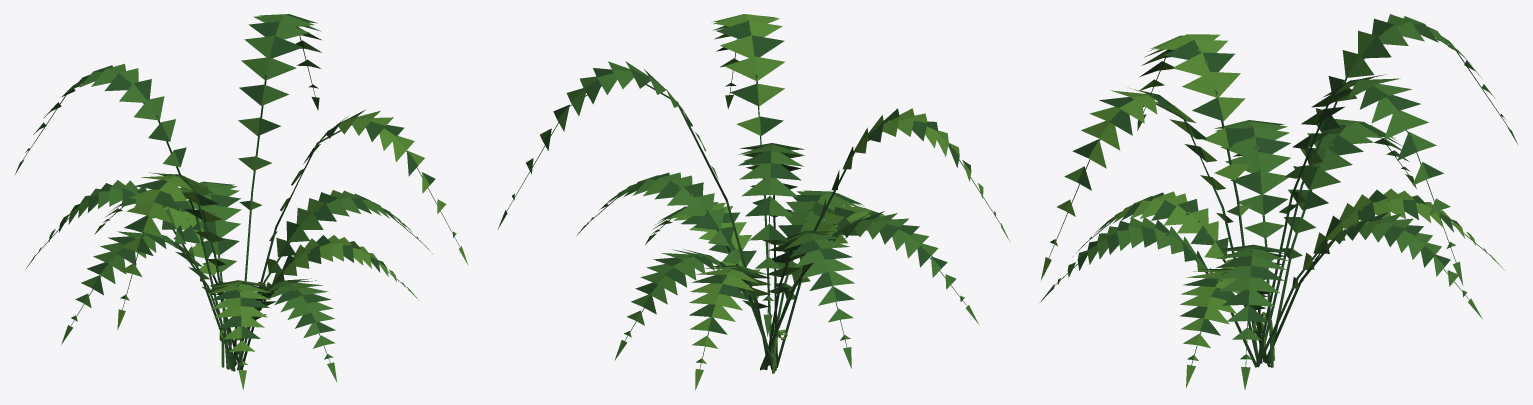
The model's file is fern_full.fbx.
The picture shows the model from 3 angles, left to right: view 1: azimuth 30°, elevation 25°; view 2: azimuth 150°, elevation 25°; view 3: azimuth 270°, elevation 25°; orthographic projection. The views are drawn at different scales.
Visible parts, largest first — view 1: fern_full; view 2: fern_full; view 3: fern_full.
Boxes of the visible parts, left/top/right/bottom form: fern_full: left=14, top=14, right=468, bottom=390; fern_full: left=497, top=14, right=1010, bottom=390; fern_full: left=1040, top=14, right=1517, bottom=389.
Bounding box in the file's own units: 172 × 128 × 165.
1 material, 1 textured.
